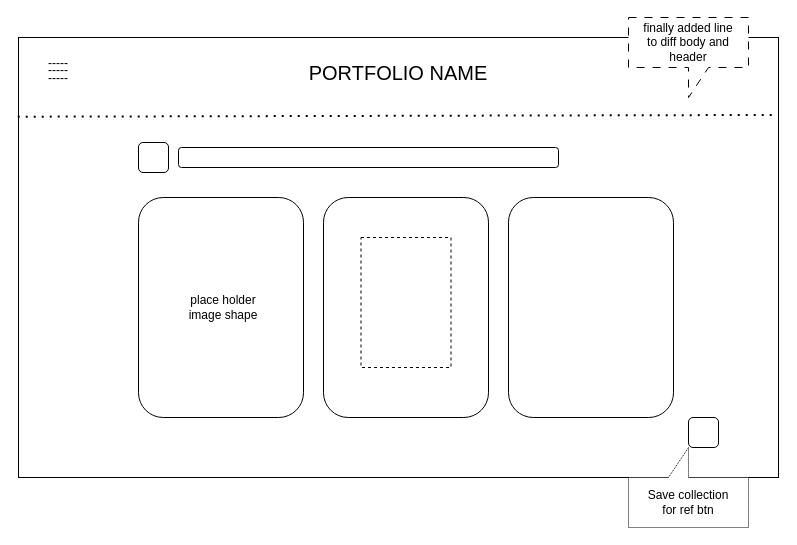
Image size: 797x545. Some labels were removed from this diagram. The shapes that lost their labels are listed below. From the top down, each one's box as (x1, y1, x2, y2) in pixels, then its label:
(178, 146, 558, 168): Search Bar; if empty generate randomly
(360, 236, 451, 368): Option; Save individual images, lock, delete?
